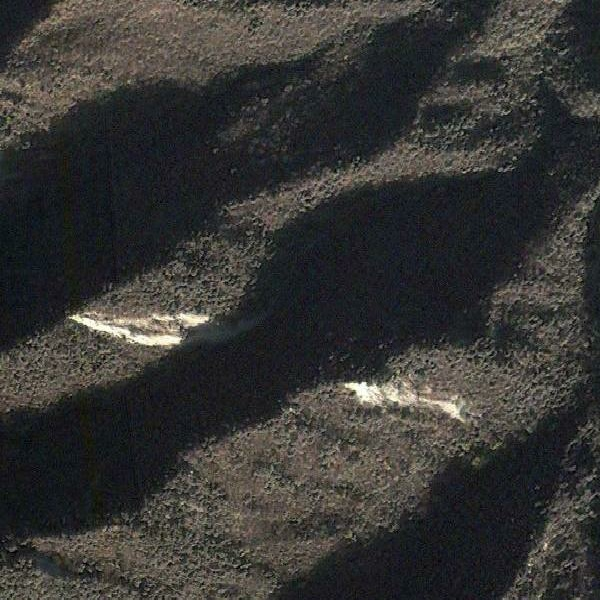slope: (72, 309, 269, 350), (337, 375, 472, 424)
